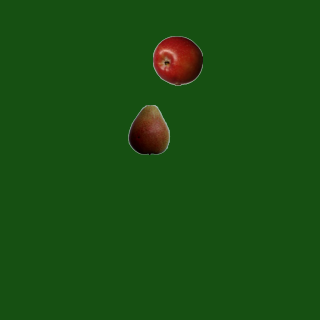Apple Braeburn: (152, 35, 202, 85)
Pear Forelle: (123, 104, 173, 154)
